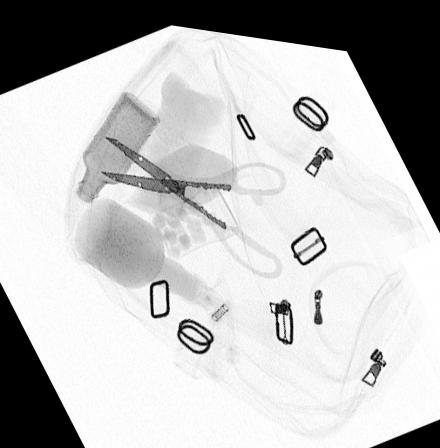Scissors: (98, 134, 289, 272)
